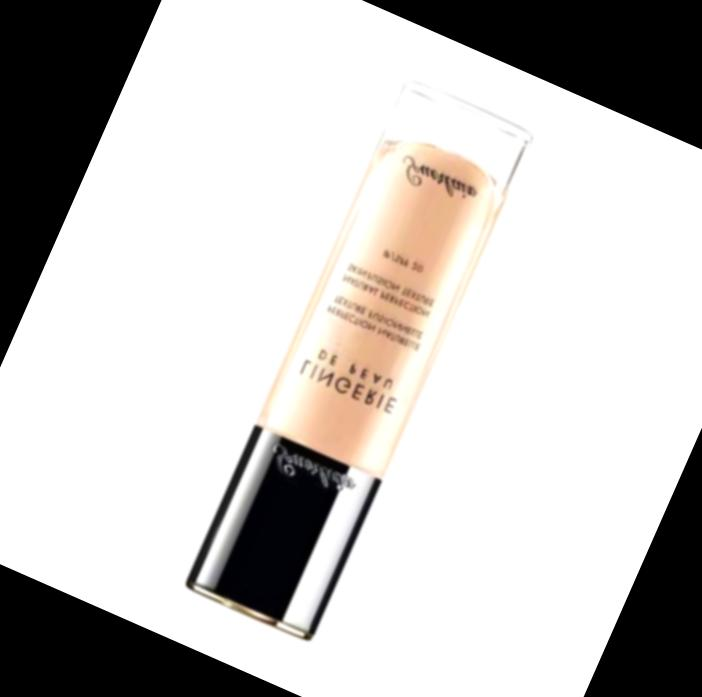cosmetic: (182, 80, 537, 647)
